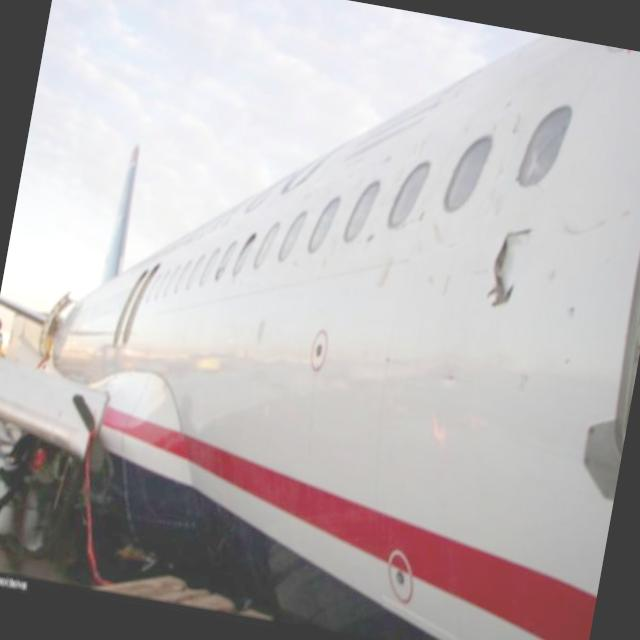crack: (480, 218, 540, 312)
